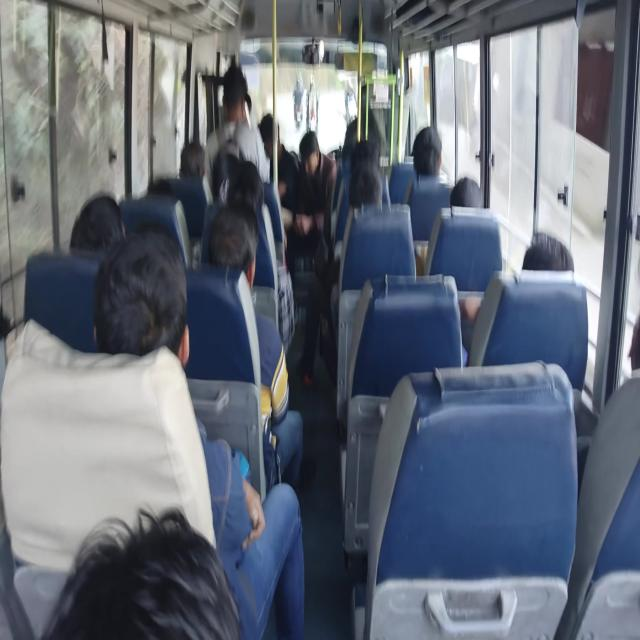person: (106, 395, 211, 613), (0, 244, 51, 386), (117, 228, 185, 332), (86, 196, 132, 266), (266, 117, 313, 179), (514, 211, 558, 276), (218, 198, 256, 259), (352, 168, 390, 214), (224, 176, 269, 214), (627, 292, 640, 402), (217, 62, 243, 108), (182, 132, 207, 179), (304, 136, 327, 184), (418, 126, 442, 172), (458, 176, 484, 217), (230, 68, 251, 118), (153, 167, 176, 205), (343, 145, 370, 173), (242, 157, 266, 186), (409, 134, 427, 159)
